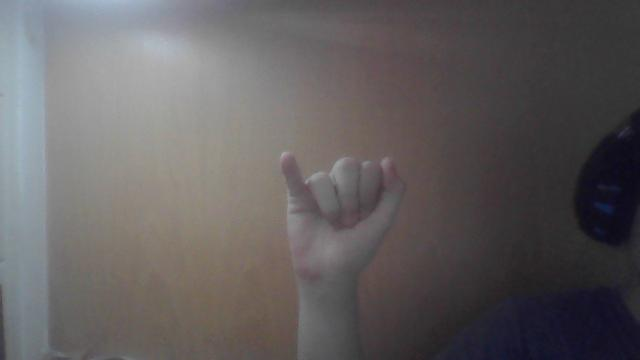Right: (259, 148, 406, 280)
